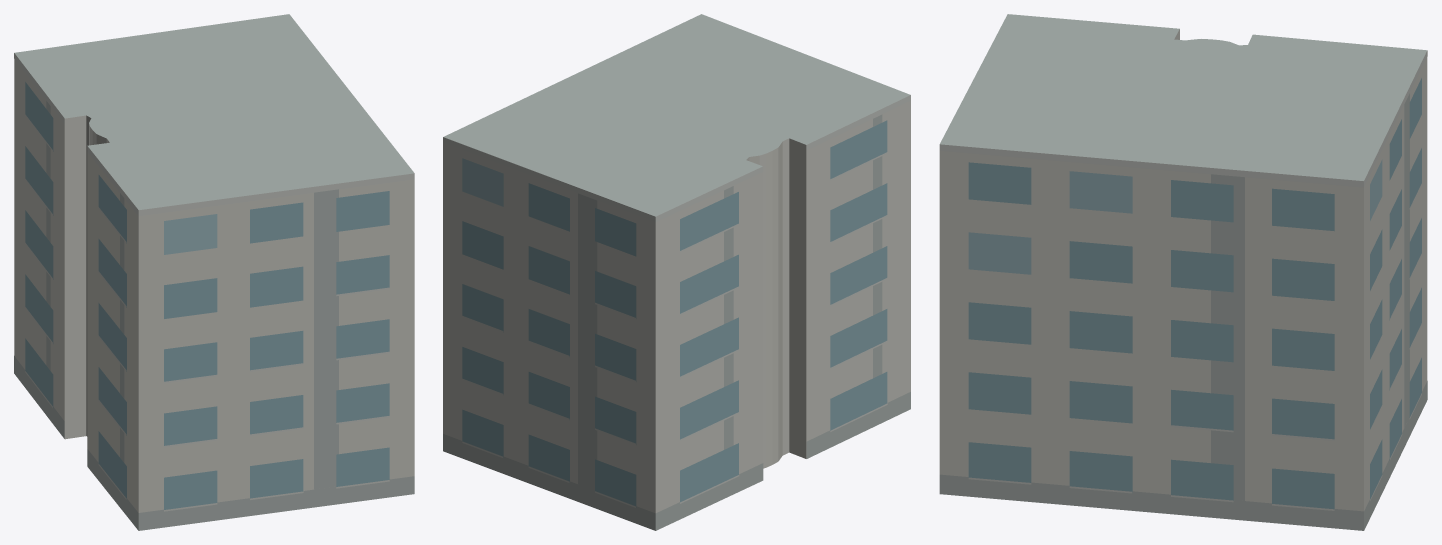
The model's file is survey-upis-32885325.glb.
3 views of the same model, side by side, from view 1: azimuth 30°, elevation 25°; view 2: azimuth 150°, elevation 25°; view 3: azimuth 270°, elevation 25° (orthographic). The views are drawn at different scales.
Visible parts, largest first — view 1: survey-upis-32885325.tmp; view 2: survey-upis-32885325.tmp; view 3: survey-upis-32885325.tmp.
Part boxes in pixels (x1,y1,x2,y2): survey-upis-32885325.tmp: [14, 14, 414, 530]; survey-upis-32885325.tmp: [443, 14, 910, 530]; survey-upis-32885325.tmp: [939, 14, 1427, 530].
Size of the model in its own units: 13.69 by 13.35 by 16.89.
